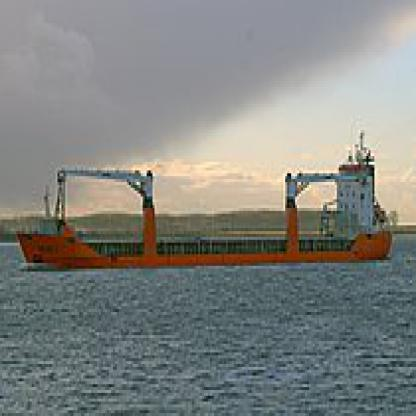Container Ship: (14, 129, 394, 270)
